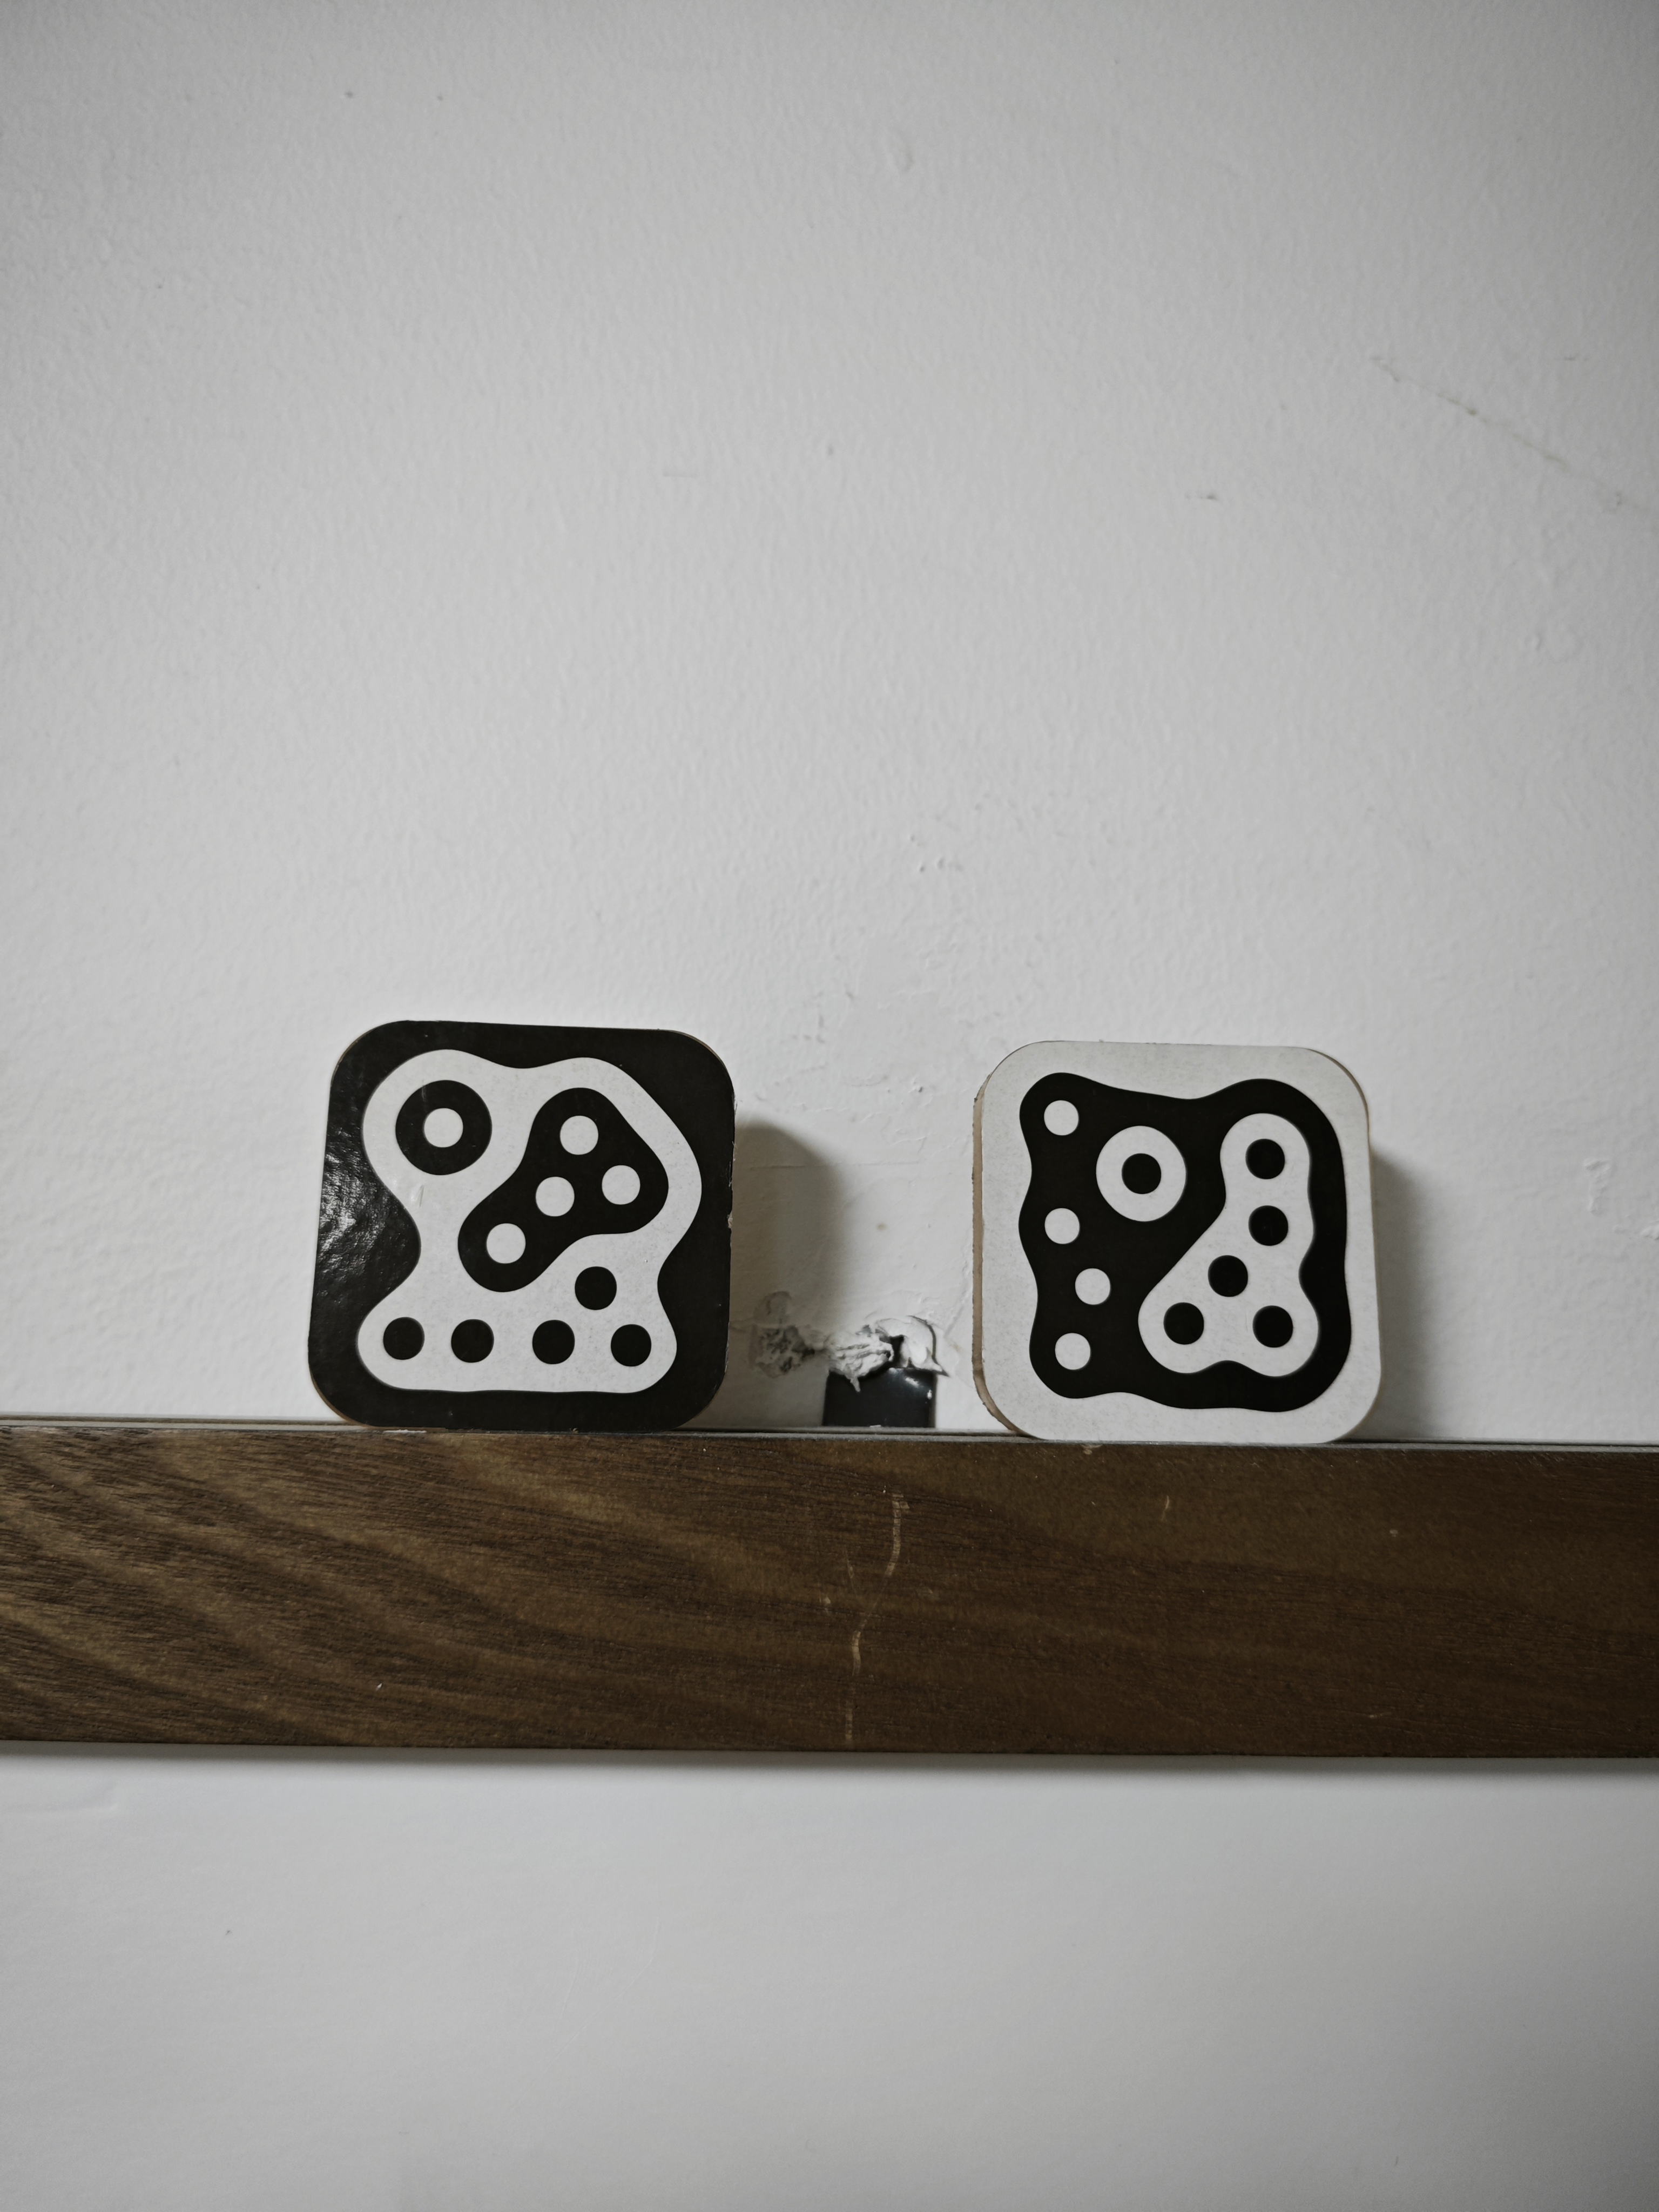mark1: (1011, 1064, 1356, 1414)
mark2: (359, 1049, 697, 1404)
